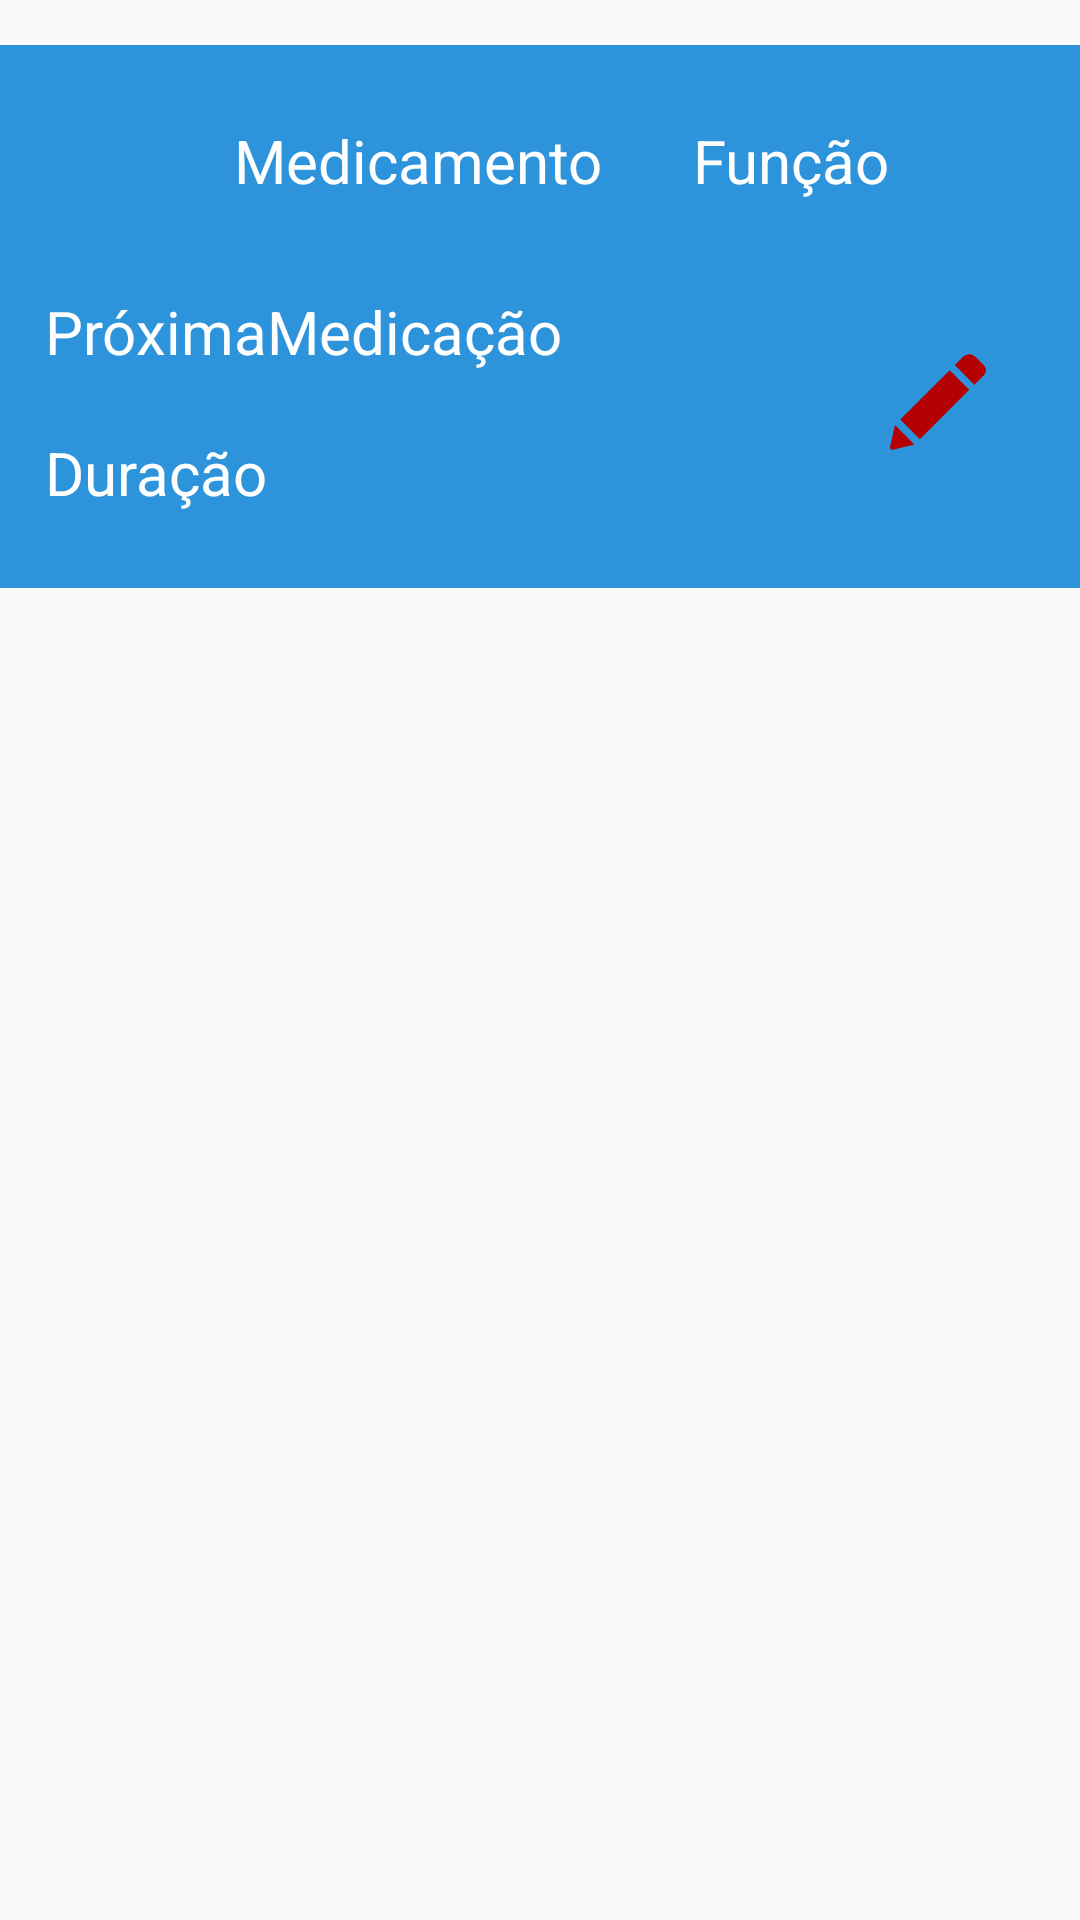

Screen size 1080 × 1920. Icon name, then its box in pixels as (x1, y1, x2, y2):
edit: (890, 354, 986, 450)
